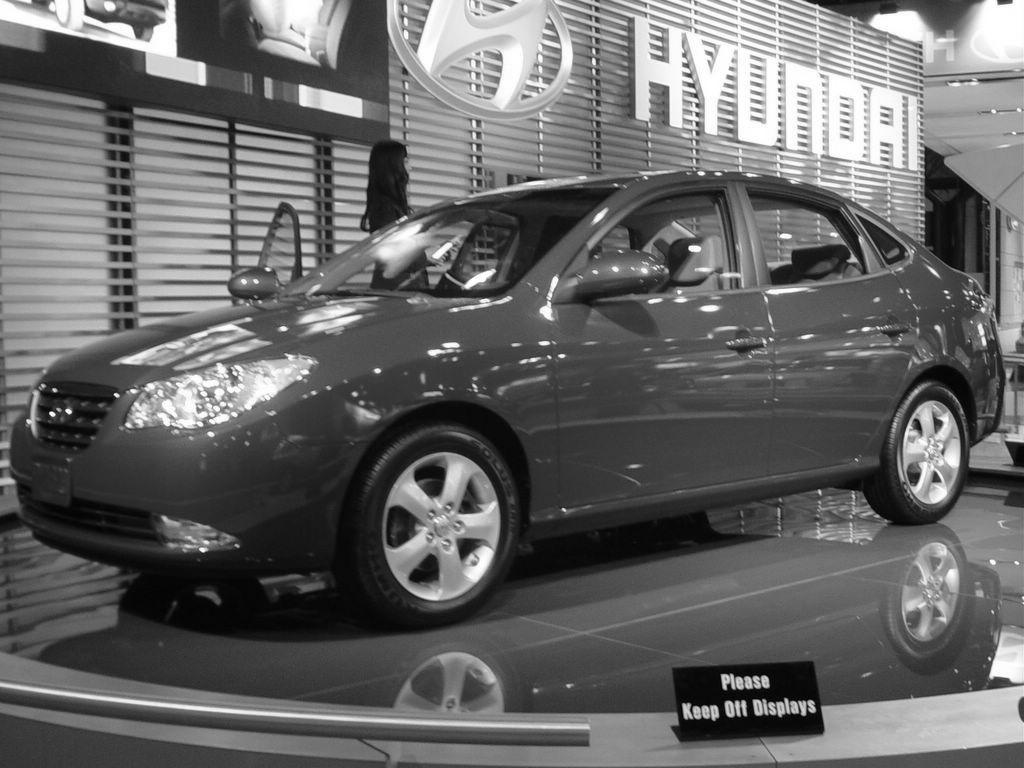car: (13, 166, 1005, 638)
